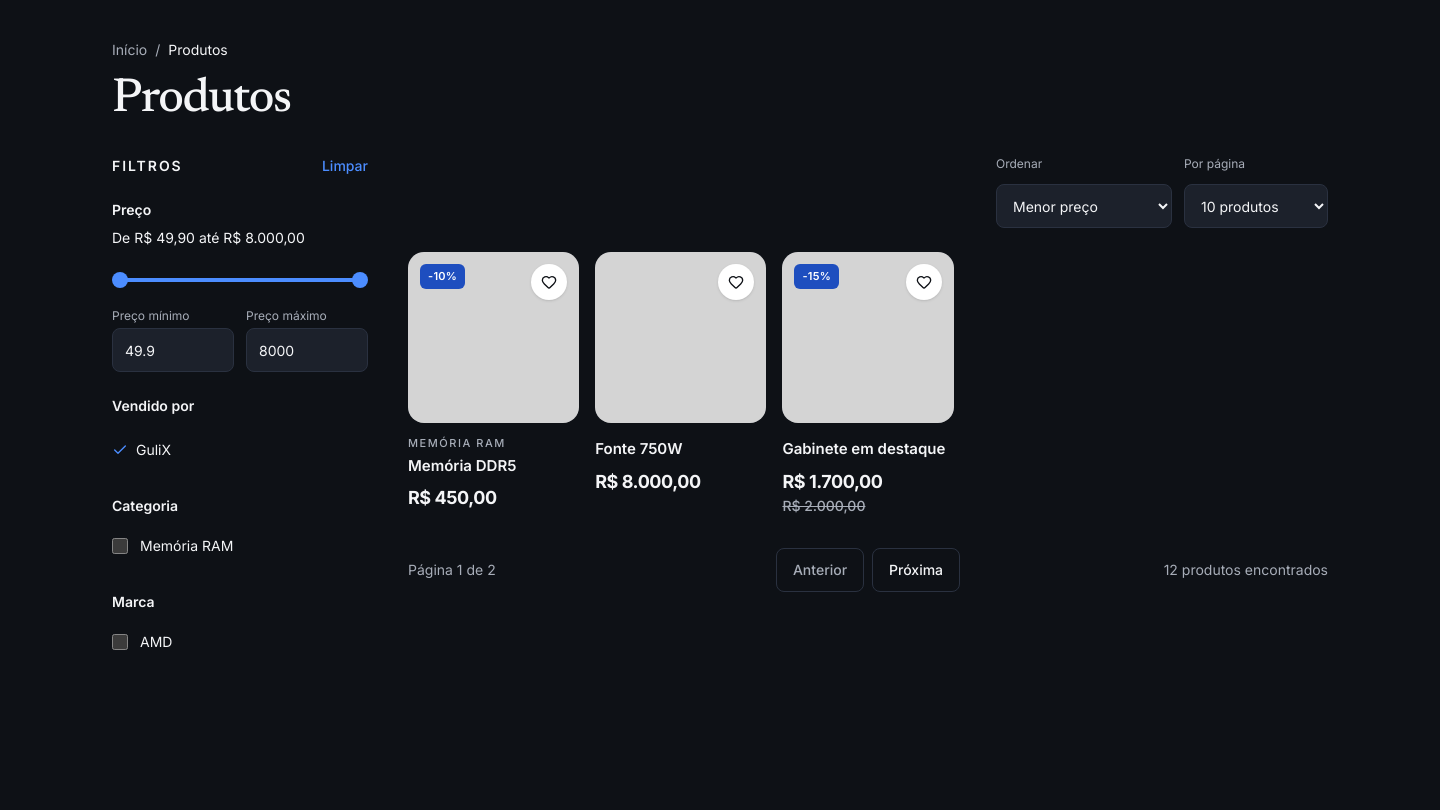
Test: catálogo › mostra o estado vazio ao desmarcar GuliX e limpa os filtros
The image size is (1440, 810).
expect the heading "Memória DDR5" is shown: met, box [408,456,516,475]
expect the icon next to "GuliX" is shown: met, box [112,442,128,458]
Click the checkbox labelled "GuliX".
click(142, 450)  # box [112,441,171,458]
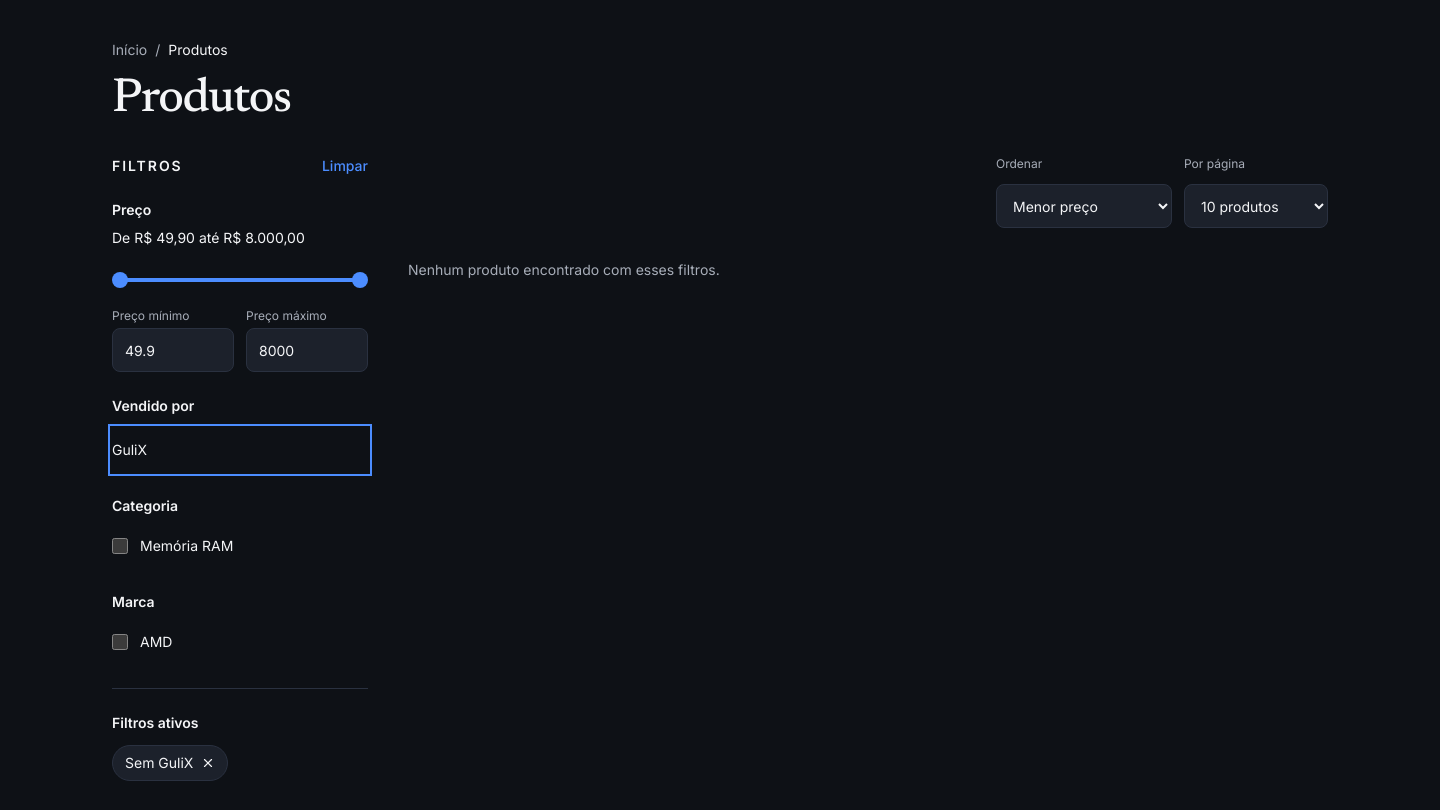
expect the text "Nenhum produto encontrado com esses filtros." is shown: met, box [408,261,720,278]
Click the button "Limpar".
click(345, 166)  # box [322,156,368,176]
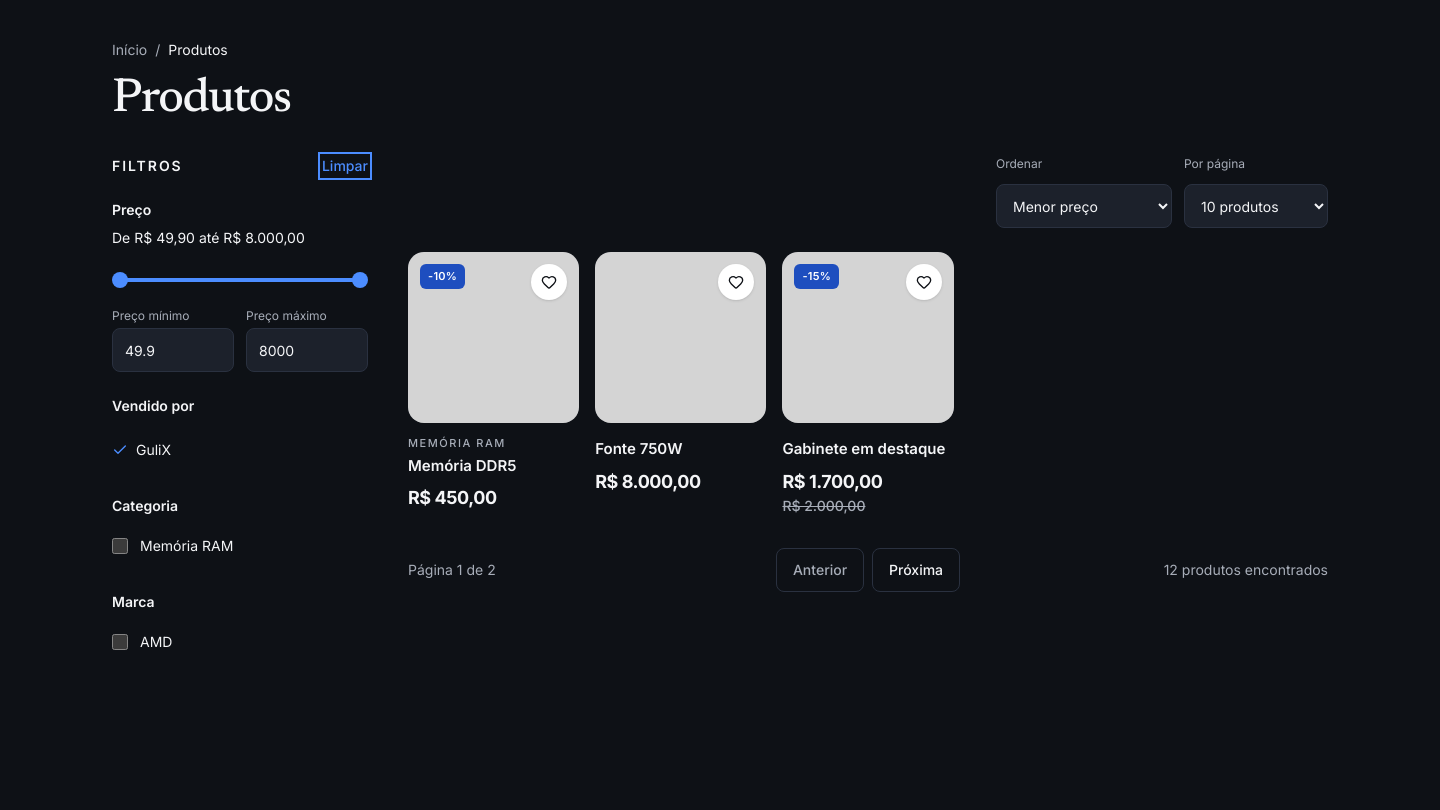
expect the heading "Memória DDR5" is shown: met, box [408,456,516,475]
